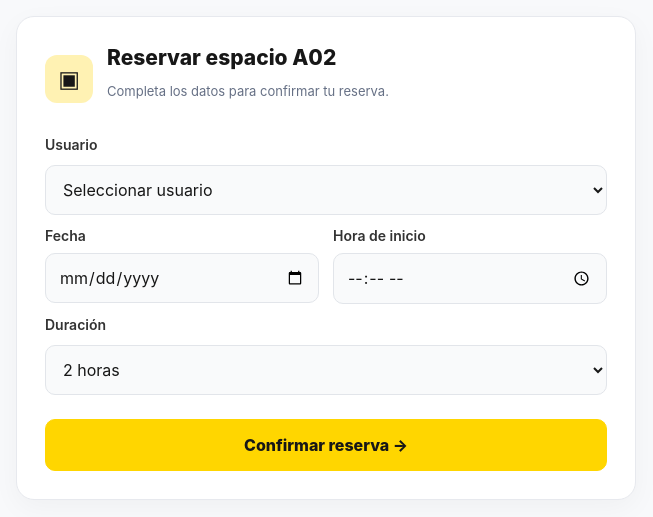
BookingForm › disables submission while booking is being created
Select "Usuario Prueba — prueba@example.com" in the dropdown labelled "Usuario" at (326, 190), box [45, 165, 607, 215]
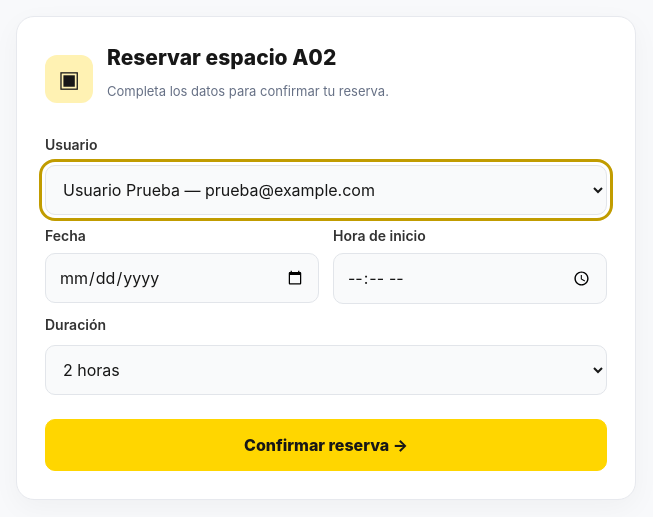
Type "2030-10-20" into the date field labelled "Fecha" at (182, 278), box [45, 253, 319, 303]
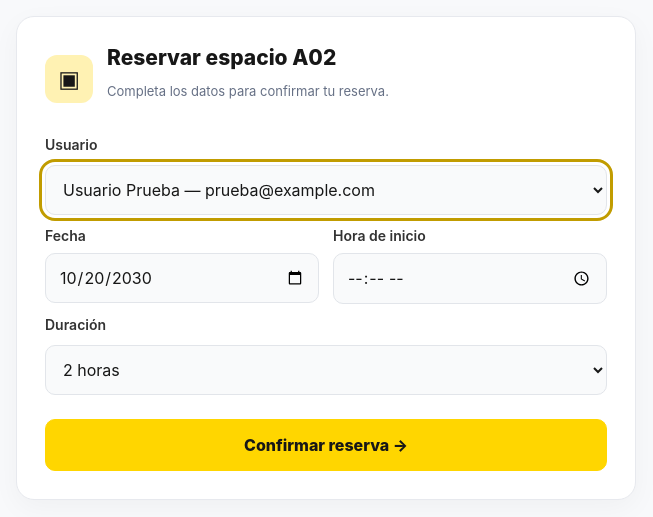
Type "10:00" into the time field labelled "Hora de inicio" at (470, 278), box [333, 253, 607, 304]
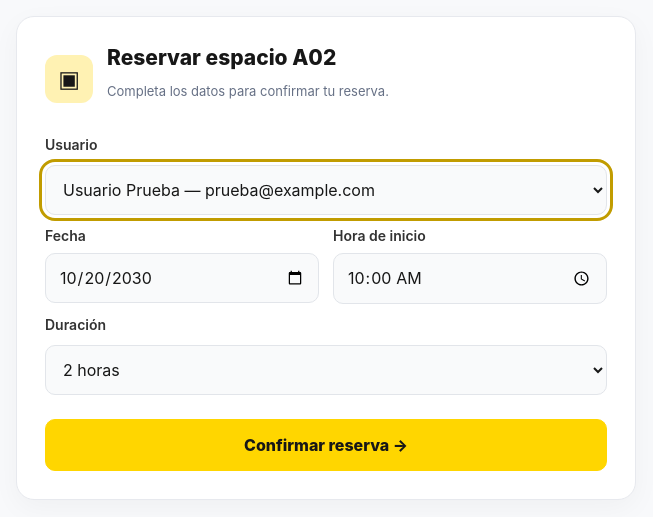
Click the button "Confirmar reserva →" at (326, 445), box [45, 419, 607, 471]
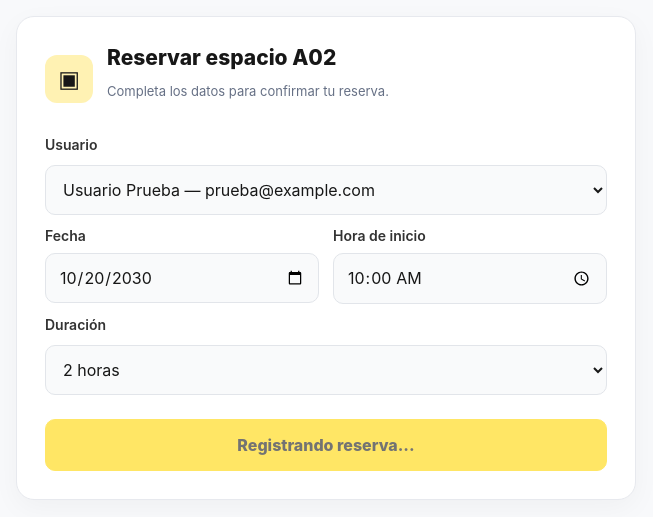
Result: the button "Registrando reserva..." is disabled at [45, 419, 607, 471]
